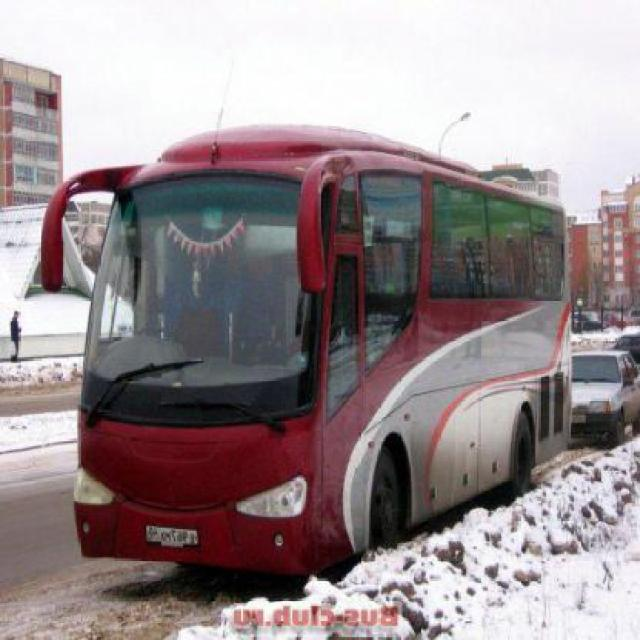bus: (40, 122, 567, 581)
car: (574, 353, 640, 444)
